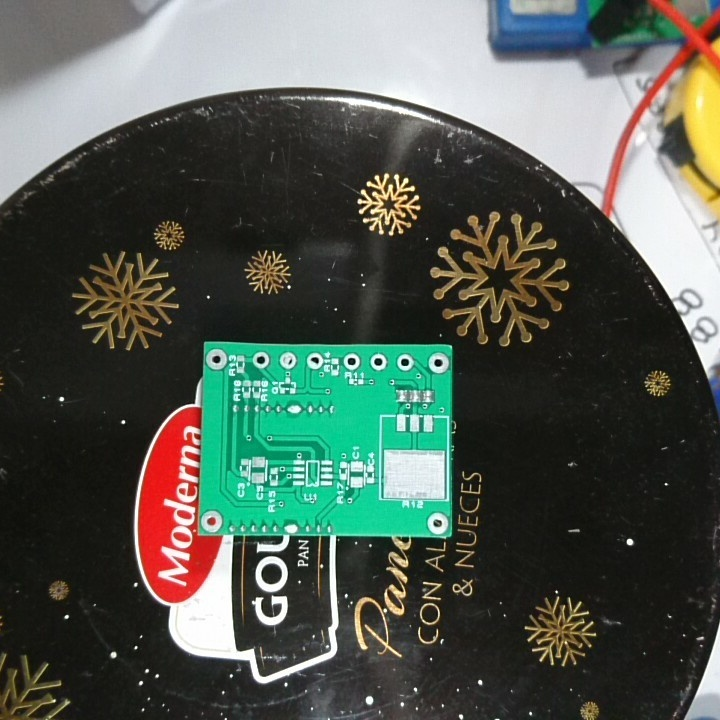F: (204, 345, 230, 372), (425, 351, 451, 378), (199, 509, 225, 535), (424, 509, 449, 535), (277, 348, 301, 372), (366, 350, 389, 372), (394, 351, 416, 372), (341, 352, 363, 372), (304, 349, 323, 372), (252, 351, 274, 370)
P: (281, 520, 302, 538), (284, 400, 304, 417)
